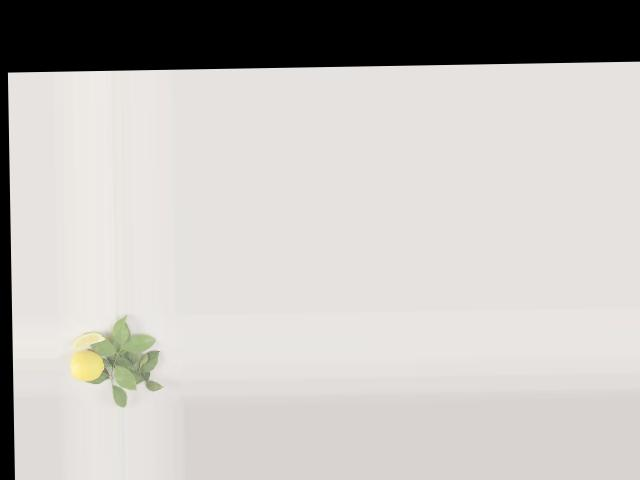lemon: (70, 352, 107, 382)
